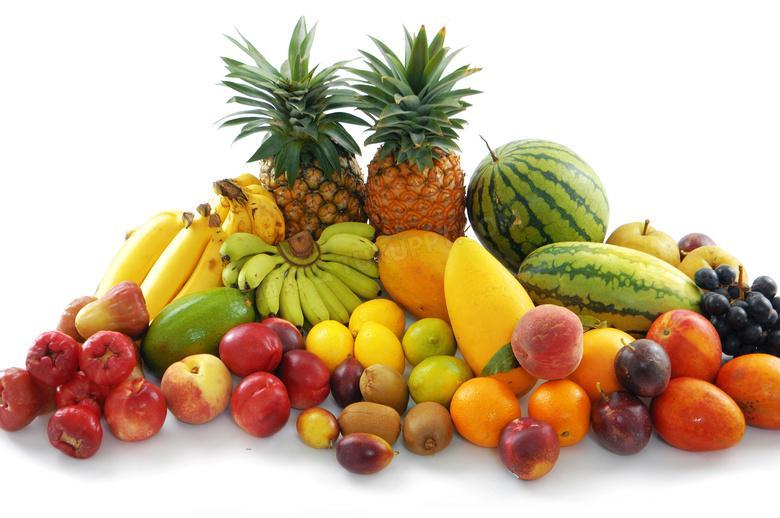apple: (160, 353, 233, 424)
